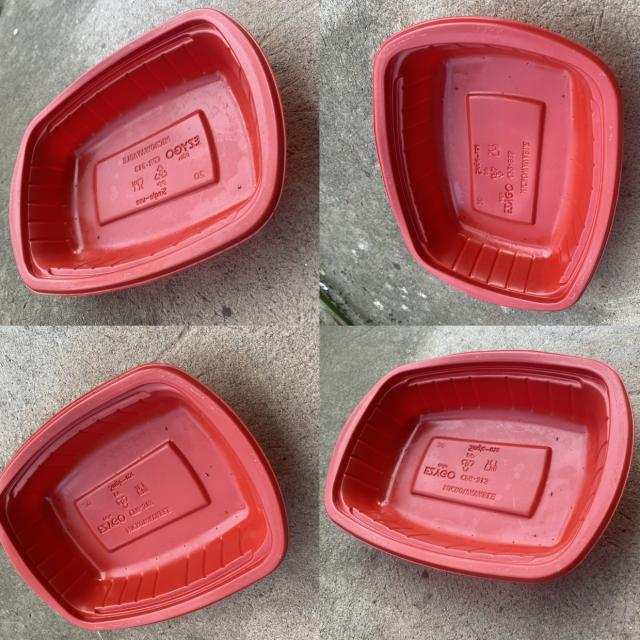plastik: (10, 8, 286, 295), (0, 364, 289, 630), (374, 18, 623, 310), (325, 351, 633, 582)
